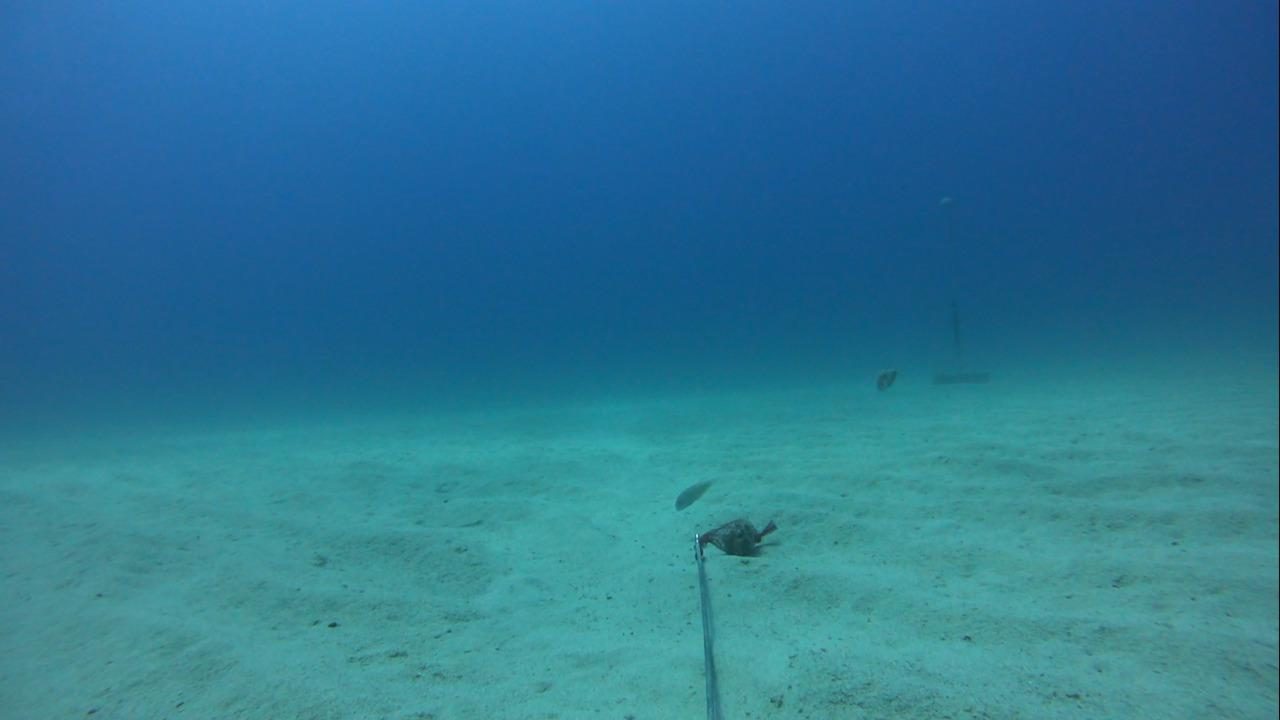raor: (667, 476, 720, 512)
